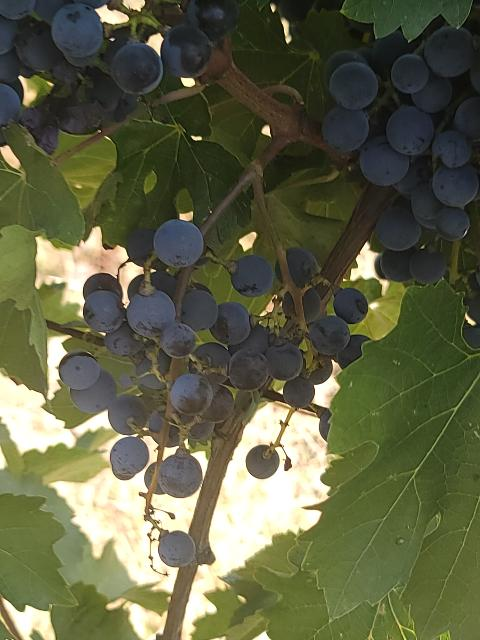grapes: (60, 219, 362, 498), (322, 26, 480, 282)
